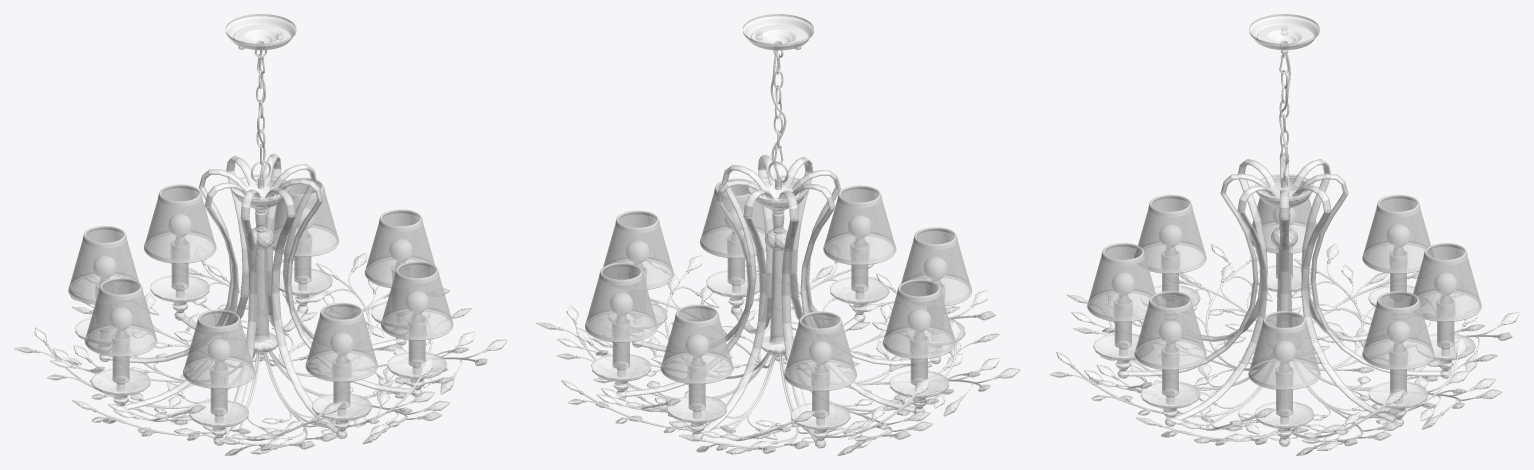
3 renders of one model, left to right at view 1: azimuth 30°, elevation 25°; view 2: azimuth 150°, elevation 25°; view 3: azimuth 270°, elevation 25°, orthographic.
Visible parts, largest first — view 1: Object_17, Object_18, Object_15, Object_5, Object_13, Object_16, Object_10, Object_14, Object_7, Object_3, Object_6, Object_8 (+3 smaller); view 2: Object_18, Object_17, Object_15, Object_5, Object_16, Object_13, Object_7, Object_14, Object_10, Object_3, Object_6, Object_8 (+3 smaller); view 3: Object_17, Object_18, Object_5, Object_15, Object_16, Object_13, Object_10, Object_7, Object_3, Object_14, Object_6, Object_8 (+3 smaller).
Boxes of the visible parts, x1=… form: Object_17: x1=112, y1=70, x2=435, y2=419; Object_18: x1=68, y1=184, x2=452, y2=385; Object_15: x1=39, y1=154, x2=482, y2=448; Object_5: x1=15, y1=228, x2=506, y2=455; Object_13: x1=31, y1=154, x2=490, y2=450; Object_16: x1=146, y1=14, x2=406, y2=449; Object_10: x1=93, y1=59, x2=453, y2=366; Object_14: x1=39, y1=157, x2=482, y2=448; Object_7: x1=15, y1=246, x2=507, y2=455; Object_3: x1=31, y1=160, x2=490, y2=450; Object_6: x1=21, y1=250, x2=501, y2=455; Object_8: x1=16, y1=246, x2=506, y2=453; Object_18: x1=660, y1=178, x2=955, y2=420; Object_17: x1=602, y1=71, x2=971, y2=350; Object_15: x1=563, y1=154, x2=993, y2=449; Object_5: x1=537, y1=229, x2=1019, y2=455; Object_16: x1=575, y1=14, x2=974, y2=447; Object_13: x1=554, y1=154, x2=1002, y2=451; Object_7: x1=537, y1=244, x2=1020, y2=454; Object_14: x1=563, y1=158, x2=993, y2=449; Object_10: x1=609, y1=69, x2=947, y2=368; Object_3: x1=554, y1=162, x2=1002, y2=450; Object_6: x1=544, y1=248, x2=1012, y2=454; Object_8: x1=537, y1=244, x2=1018, y2=454; Object_17: x1=1087, y1=71, x2=1320, y2=421; Object_18: x1=1134, y1=175, x2=1481, y2=370; Object_5: x1=1050, y1=227, x2=1519, y2=455; Object_15: x1=1071, y1=152, x2=1497, y2=446; Object_16: x1=1128, y1=14, x2=1465, y2=447; Object_13: x1=1064, y1=153, x2=1503, y2=449; Object_10: x1=1111, y1=59, x2=1457, y2=369; Object_7: x1=1050, y1=243, x2=1518, y2=455; Object_3: x1=1064, y1=159, x2=1505, y2=448; Object_14: x1=1071, y1=156, x2=1497, y2=446; Object_6: x1=1055, y1=248, x2=1515, y2=455; Object_8: x1=1050, y1=244, x2=1517, y2=455.
Bounding box in the file's own units: 877 × 758 × 877.
Materials: 1 (1 with a texture image).
